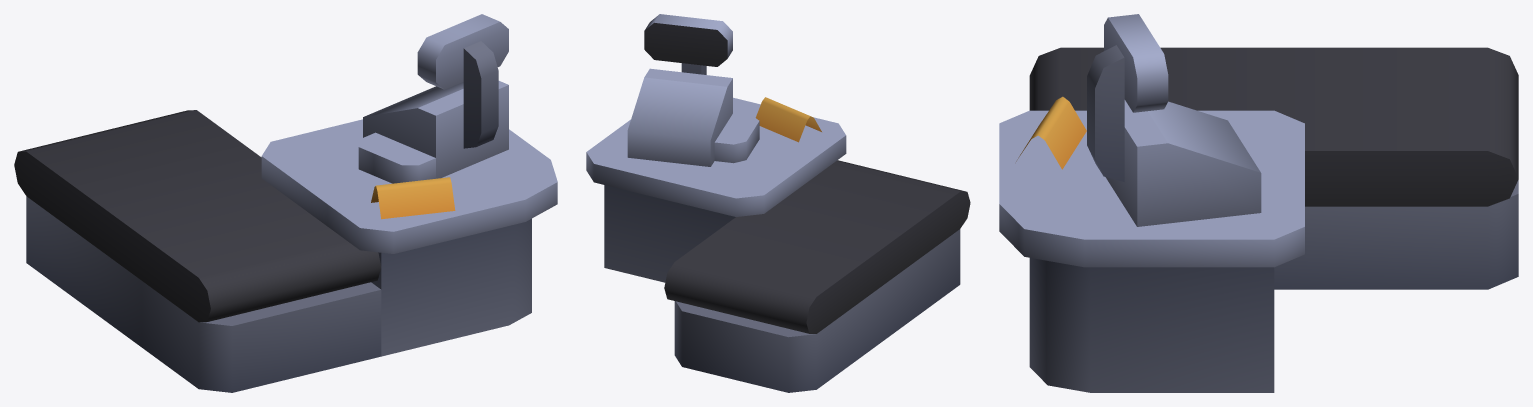
File: cash-register.glb
3 views of the same model, side by side, from view 1: azimuth 30°, elevation 25°; view 2: azimuth 150°, elevation 25°; view 3: azimuth 270°, elevation 25° (orthographic). The views are drawn at different scales.
Parts seen in each view (by area): view 1: cash-register; view 2: cash-register; view 3: cash-register.
Part boxes in pixels (box(x1,y1,x2,y2)): cash-register: box(14, 14, 557, 392); cash-register: box(586, 14, 970, 392); cash-register: box(999, 14, 1518, 392).
Bounding box in the file's own units: 0.85 × 0.5949 × 0.85.
